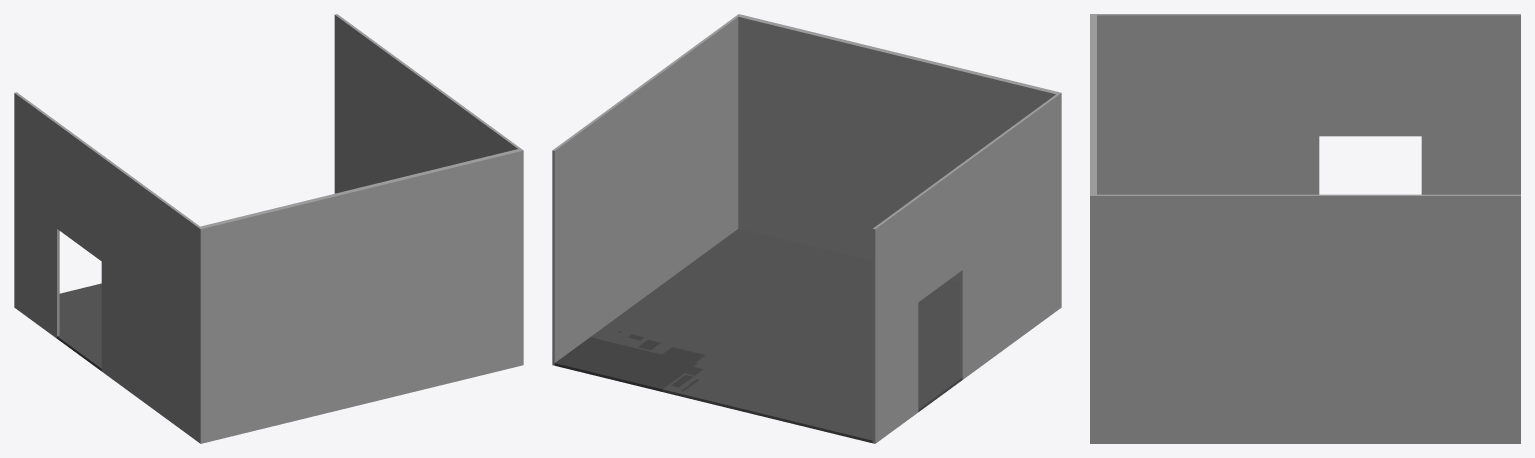
File: 4x2 second (1)-5.obj
3 views of the same model, side by side, from view 1: azimuth 30°, elevation 25°; view 2: azimuth 150°, elevation 25°; view 3: azimuth 270°, elevation 25° (orthographic). The views are drawn at different scales.
Parts seen in each view (by area): view 1: 4x2 second (1)-5; view 2: 4x2 second (1)-5; view 3: 4x2 second (1)-5.
Boxes of the visible parts, x1=… form: 4x2 second (1)-5: x1=14, y1=14, x2=523, y2=443; 4x2 second (1)-5: x1=552, y1=14, x2=1061, y2=443; 4x2 second (1)-5: x1=1090, y1=14, x2=1520, y2=443.
Size of the model in its own units: 126 by 80 by 126.
1 material, 1 textured.
